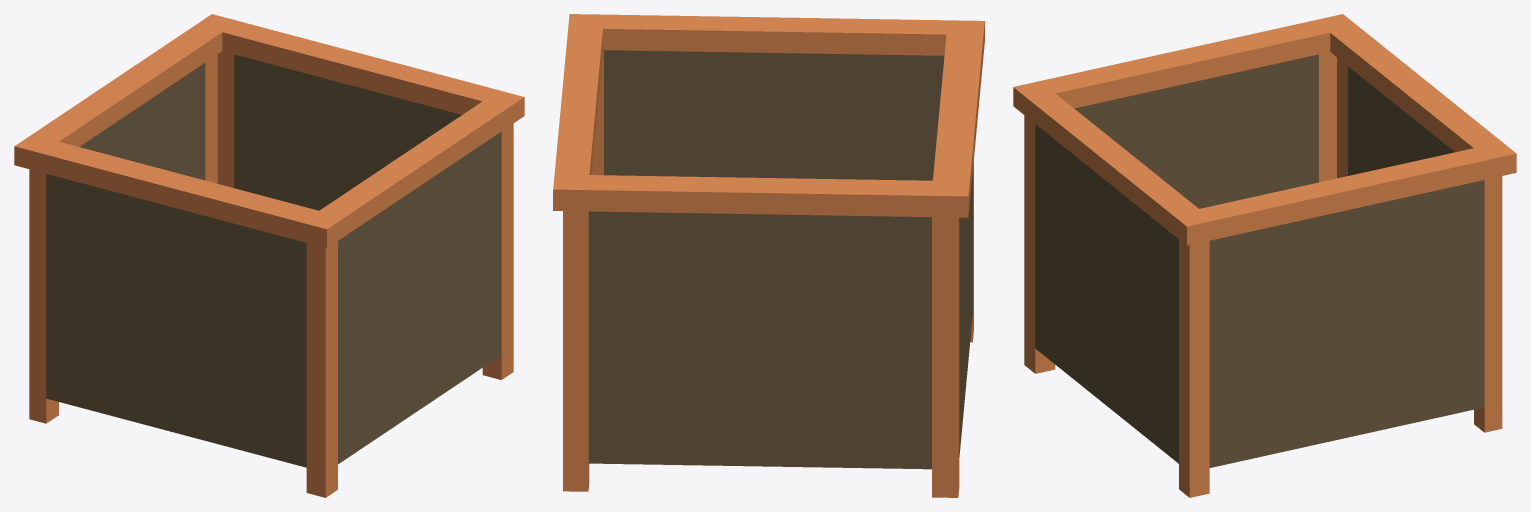
Rendered from planter_box_big_orange.fbx.
3 renders of one model, left to right at view 1: azimuth 30°, elevation 25°; view 2: azimuth 150°, elevation 25°; view 3: azimuth 270°, elevation 25°, orthographic. The views are drawn at different scales.
Visible parts, largest first — view 1: planter_box_big_orange; view 2: planter_box_big_orange; view 3: planter_box_big_orange.
Part boxes in pixels (x1,y1,x2,y2): planter_box_big_orange: (14, 14, 524, 497); planter_box_big_orange: (553, 14, 984, 497); planter_box_big_orange: (1013, 14, 1516, 497).
Size of the model in its own units: 124 by 74.73 by 123.
Materials: 1 (1 with a texture image).
